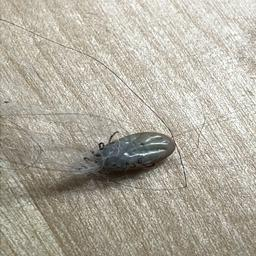Rhipicephalus sanguineus: (81, 132, 175, 175)
